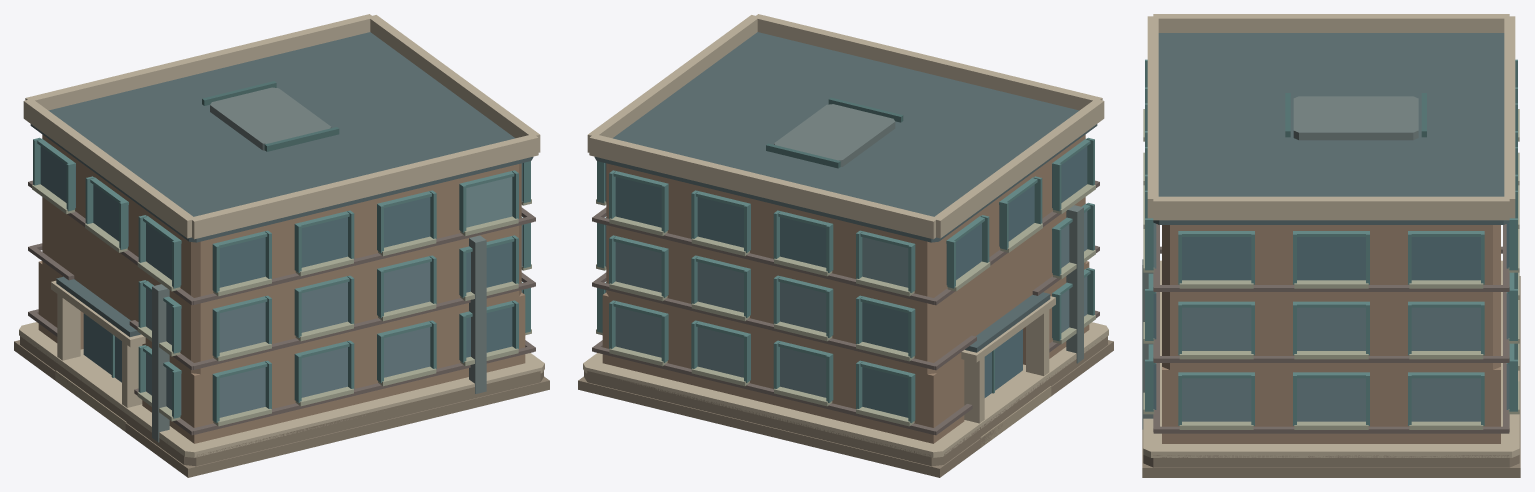
File: psych-lab.glb
3 renders of one model, left to right at view 1: azimuth 30°, elevation 25°; view 2: azimuth 150°, elevation 25°; view 3: azimuth 270°, elevation 25°, orthographic. The views are drawn at different scales.
Parts seen in each view (by area): view 1: form, relief, glaze, glowing; view 2: form, relief, glaze, glowing; view 3: form, glaze, relief, glowing.
Part boxes in pixels (box(x1,y1,x2,y2)): form: box(14, 14, 549, 477); relief: box(32, 137, 531, 426); glaze: box(83, 177, 522, 417); glowing: box(40, 146, 522, 287); form: box(578, 14, 1113, 477); relief: box(596, 137, 1095, 426); glaze: box(605, 146, 1087, 417); glowing: box(615, 177, 981, 284); form: box(1142, 14, 1520, 477); glaze: box(1153, 223, 1509, 421); relief: box(1143, 59, 1519, 429); glowing: box(1182, 223, 1509, 280).
Bounding box in the file's own units: 12 × 8 × 10.
